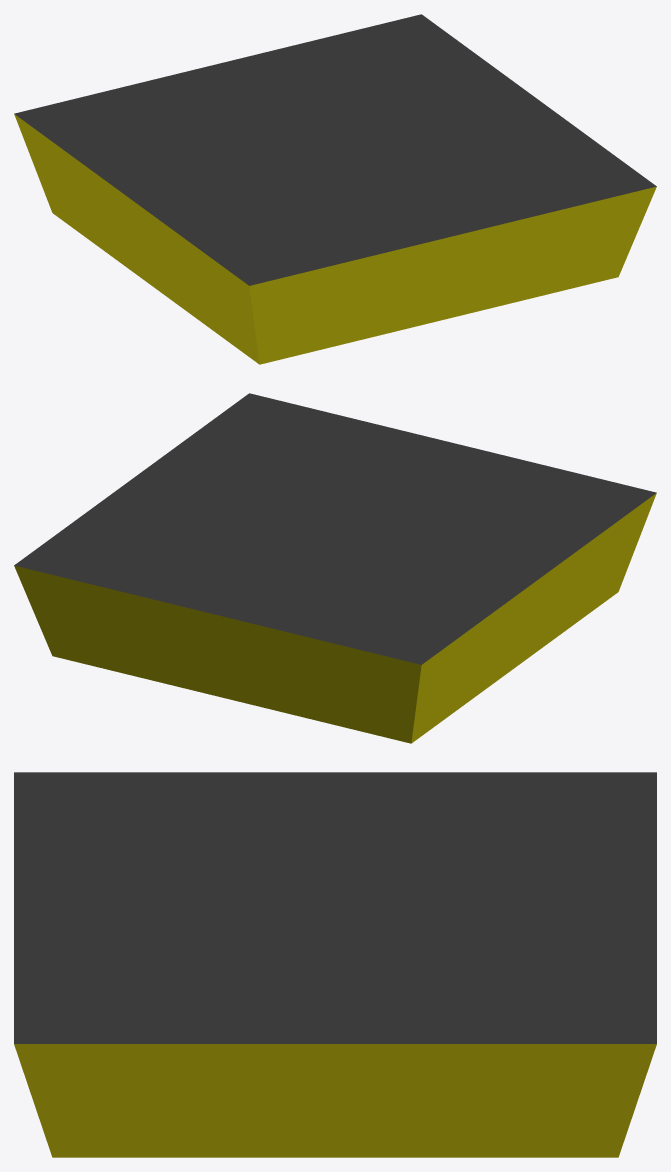
The model's file is Road brick ZUP 1.fbx.
3 renders of one model, top to bottom at view 1: azimuth 30°, elevation 25°; view 2: azimuth 150°, elevation 25°; view 3: azimuth 270°, elevation 25°, orthographic. The views are drawn at different scales.
Visible parts, largest first — view 1: Cube; view 2: Cube; view 3: Cube.
Boxes of the visible parts, x1,y1,x2,y2 form: Cube: [14, 14, 656, 364]; Cube: [14, 393, 656, 743]; Cube: [14, 772, 656, 1157].
Size of the model in its own units: 898 by 898 by 200.
